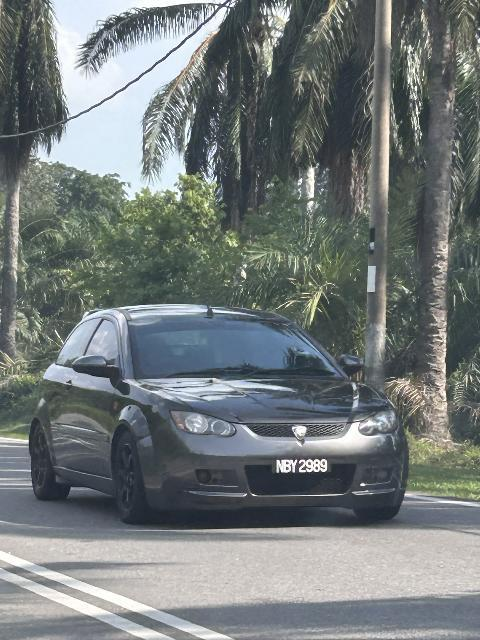License_Plate: (270, 456, 334, 477)
NBY2989: (270, 456, 334, 477)
car: (29, 303, 406, 529)
